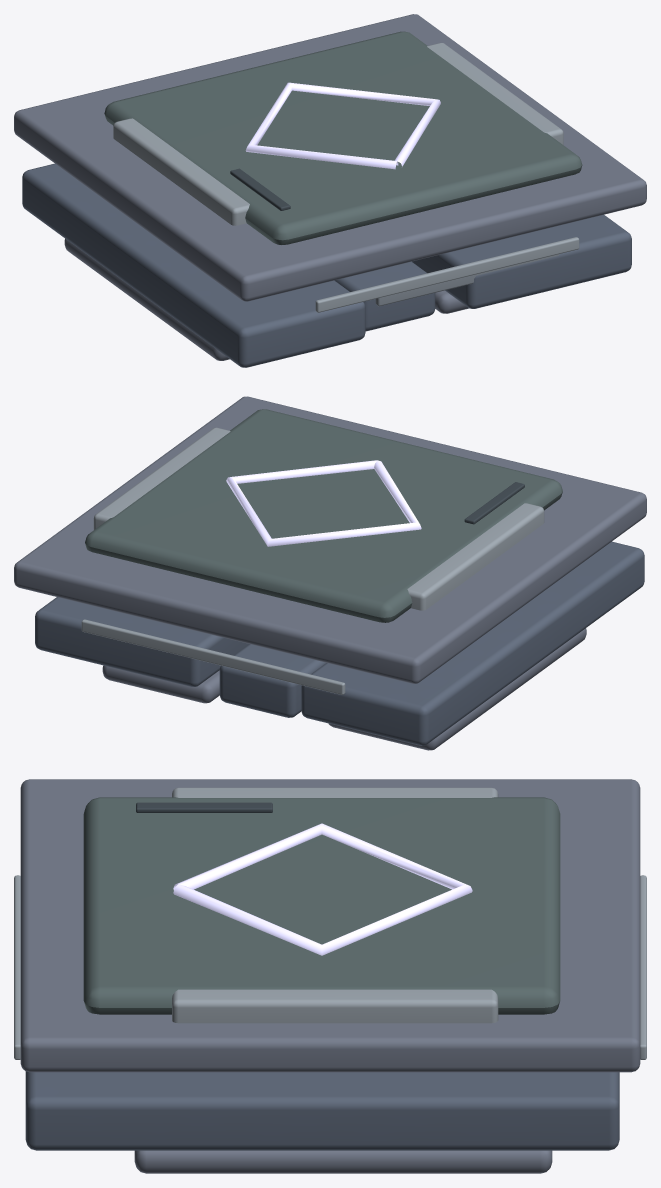
File: BG_MEC_INNER_PRESSURE_PLATE_001.glb
The picture shows the model from 3 angles, top to bottom: view 1: azimuth 30°, elevation 25°; view 2: azimuth 150°, elevation 25°; view 3: azimuth 270°, elevation 25°; orthographic projection. The views are drawn at different scales.
Visible parts, largest first — view 1: Inset pressure pad, Dressed upper slab, Offset split base 0, Offset split base 2, Offset pad cheek -1, Quiet pressure diamond, Cold edge inset -1, Offset split base 1, Offset pad cheek 1, Suspended lower segment 0, Cold base reveal, Dark mirrored pressure seam (+1 smaller); view 2: Inset pressure pad, Dressed upper slab, Offset split base 0, Offset split base 2, Offset pad cheek -1, Offset split base 1, Quiet pressure diamond, Cold edge inset 1, Offset pad cheek 1, Suspended lower segment 0, Suspended lower segment 1, Dark mirrored pressure seam; view 3: Inset pressure pad, Dressed upper slab, Offset split base 2, Offset pad cheek 1, Suspended lower segment 1, Quiet pressure diamond, Offset pad cheek -1, Dark mirrored pressure seam, Cold edge inset 1, Cold edge inset -1.
Part boxes in pixels (x1,y1,x2,y2): Inset pressure pad: (104,31,582,244); Dressed upper slab: (14,14,646,301); Offset split base 0: (22,163,365,367); Offset split base 2: (412,214,631,308); Offset pad cheek -1: (113,118,249,225); Quiet pressure diamond: (245,82,440,169); Cold edge inset -1: (315,237,579,312); Offset split base 1: (334,261,435,331); Offset pad cheek 1: (427,43,563,144); Suspended lower segment 0: (64,238,229,360); Cold base reveal: (375,254,559,306); Dark mirrored pressure seam: (230,168,290,210); Inset pressure pad: (85,409,562,622); Dressed upper slab: (14,396,646,683); Offset split base 0: (301,541,644,745); Offset split base 2: (35,597,248,686); Offset pad cheek -1: (407,503,544,610); Offset split base 1: (219,644,326,717); Quiet pressure diamond: (226,460,421,546); Cold edge inset 1: (81,619,345,694); Offset pad cheek 1: (93,427,230,529); Suspended lower segment 0: (328,628,586,750); Suspended lower segment 1: (102,665,219,703); Dark mirrored pressure seam: (464,482,524,524); Inset pressure pad: (83,797,560,1014); Dressed upper slab: (20,779,640,1072); Offset split base 2: (25,1071,619,1150); Offset pad cheek 1: (172,989,498,1023); Suspended lower segment 1: (134,1150,552,1173); Quiet pressure diamond: (173,823,472,955); Offset pad cheek -1: (172,787,498,797); Dark mirrored pressure seam: (136,802,272,812); Cold edge inset 1: (640,875,646,1059); Cold edge inset -1: (14,875,20,1059).
Bounding box in the file's own units: 0.96 × 0.3435 × 0.97.
Materials: 7 (1 with a texture image).
